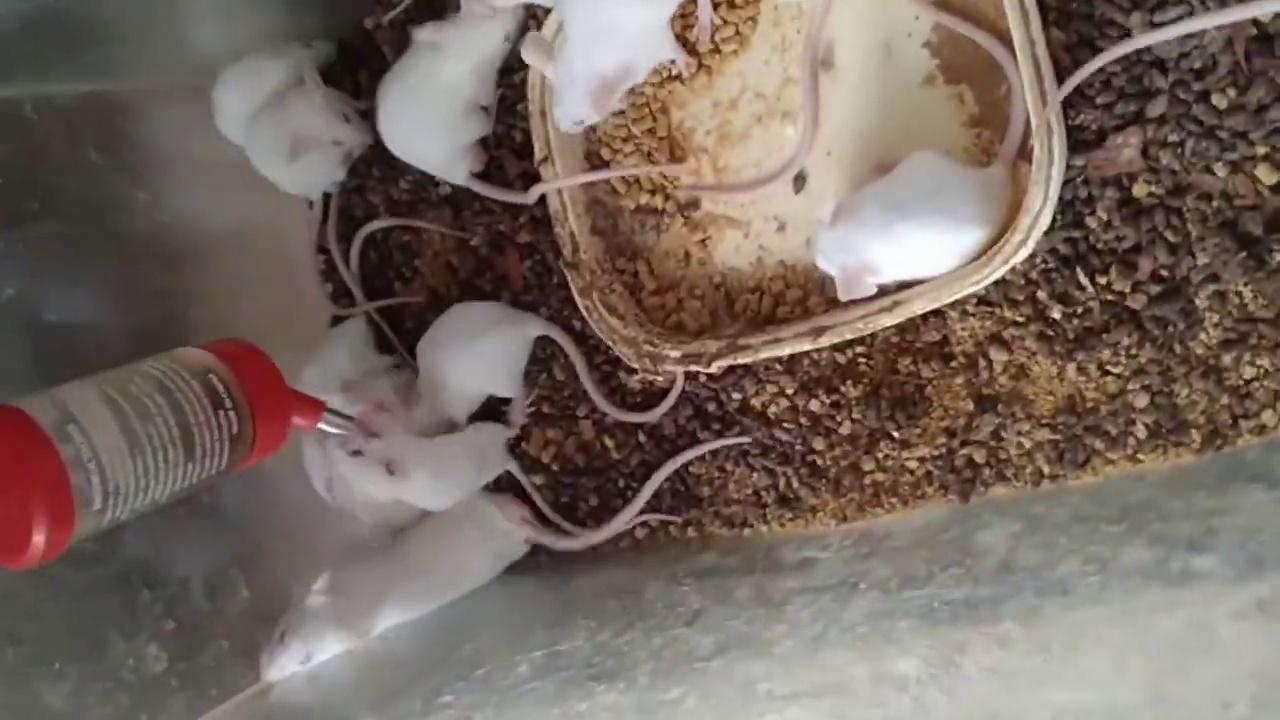rat: (260, 499, 682, 682), (816, 9, 1024, 300), (378, 11, 688, 204), (395, 301, 686, 424), (522, 0, 710, 134), (248, 63, 371, 194)
